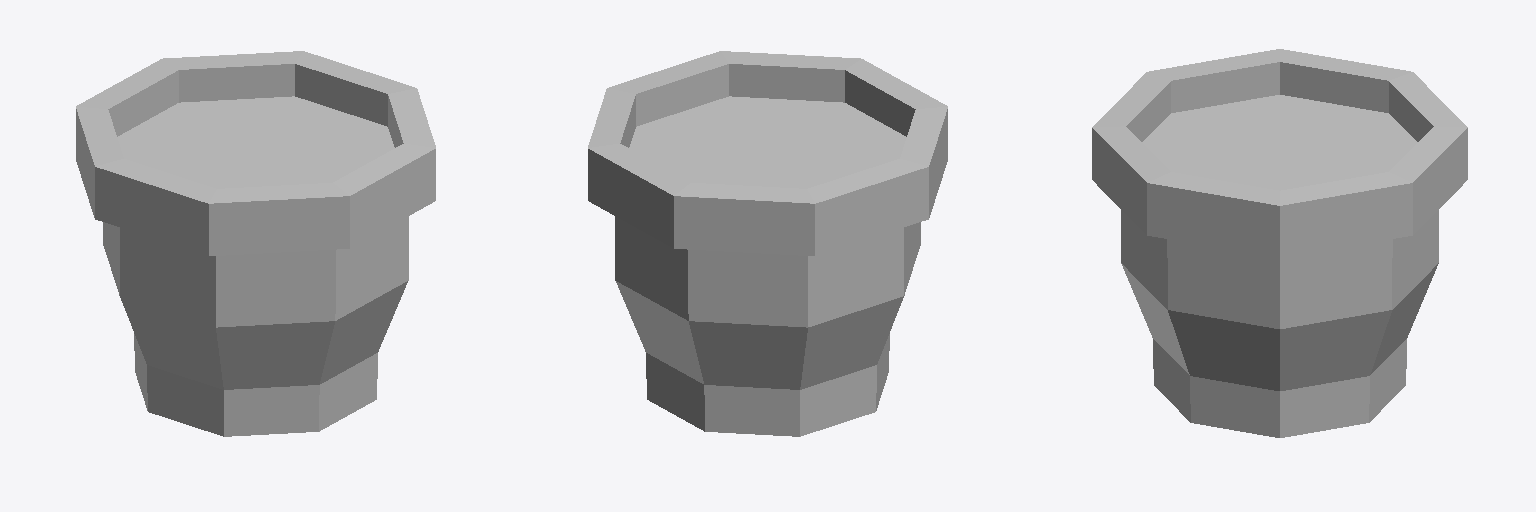
File: pot.obj
The picture shows the model from 3 angles: view 1: azimuth 30°, elevation 25°; view 2: azimuth 150°, elevation 25°; view 3: azimuth 270°, elevation 25°; orthographic projection.
Visible parts, largest first — view 1: Cylinder; view 2: Cylinder; view 3: Cylinder.
Part boxes in pixels (bbox=[...]): Cylinder: bbox=[76, 51, 435, 436]; Cylinder: bbox=[588, 51, 947, 436]; Cylinder: bbox=[1092, 49, 1467, 437].
Bounding box in the file's own units: 2.56 × 1.97 × 2.59.